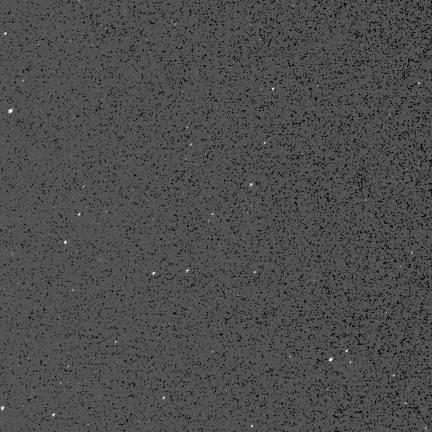blob: (9, 108, 13, 113), (329, 358, 333, 361)
